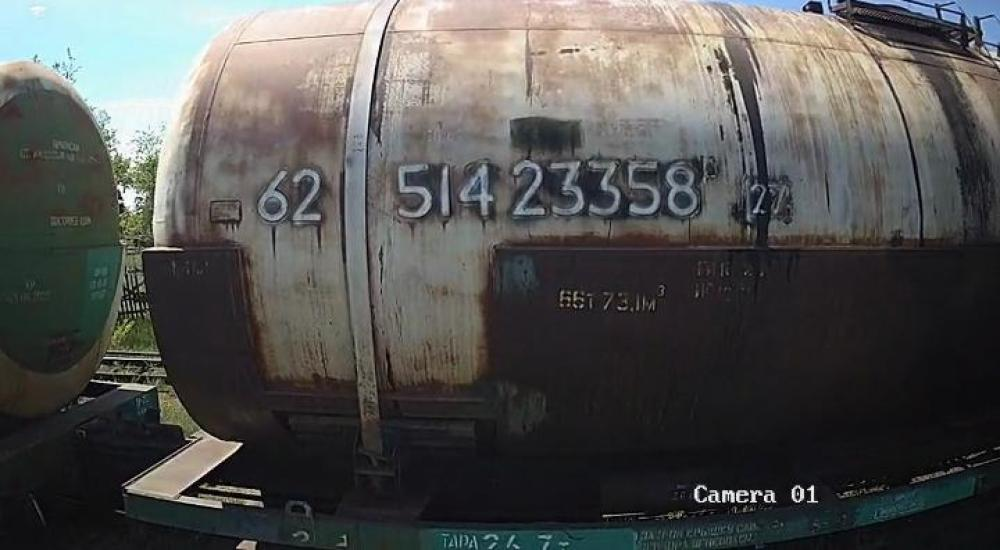Wagon-number: (392, 152, 709, 224)
